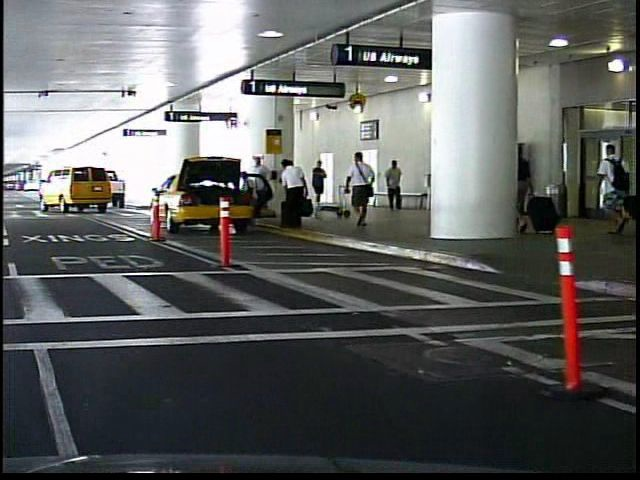person: (484, 137, 524, 236), (590, 143, 632, 237), (339, 147, 375, 231), (381, 153, 402, 216)
